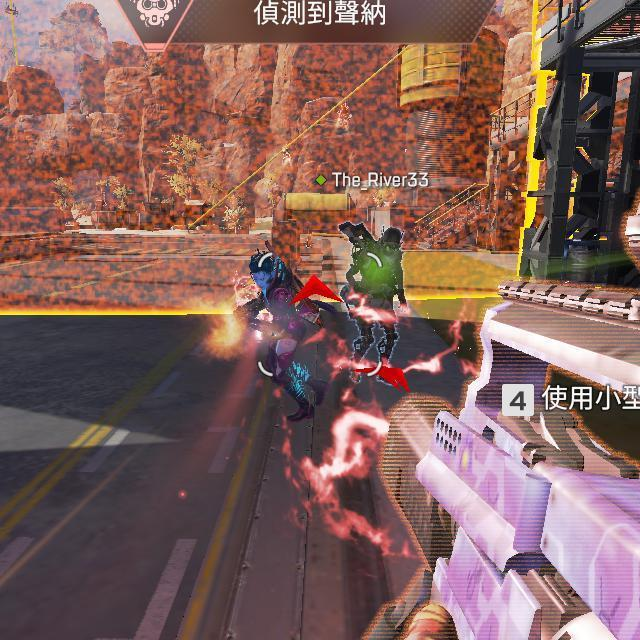avatar: (247, 250, 332, 426), (335, 218, 406, 388)
object: (361, 251, 395, 288)
